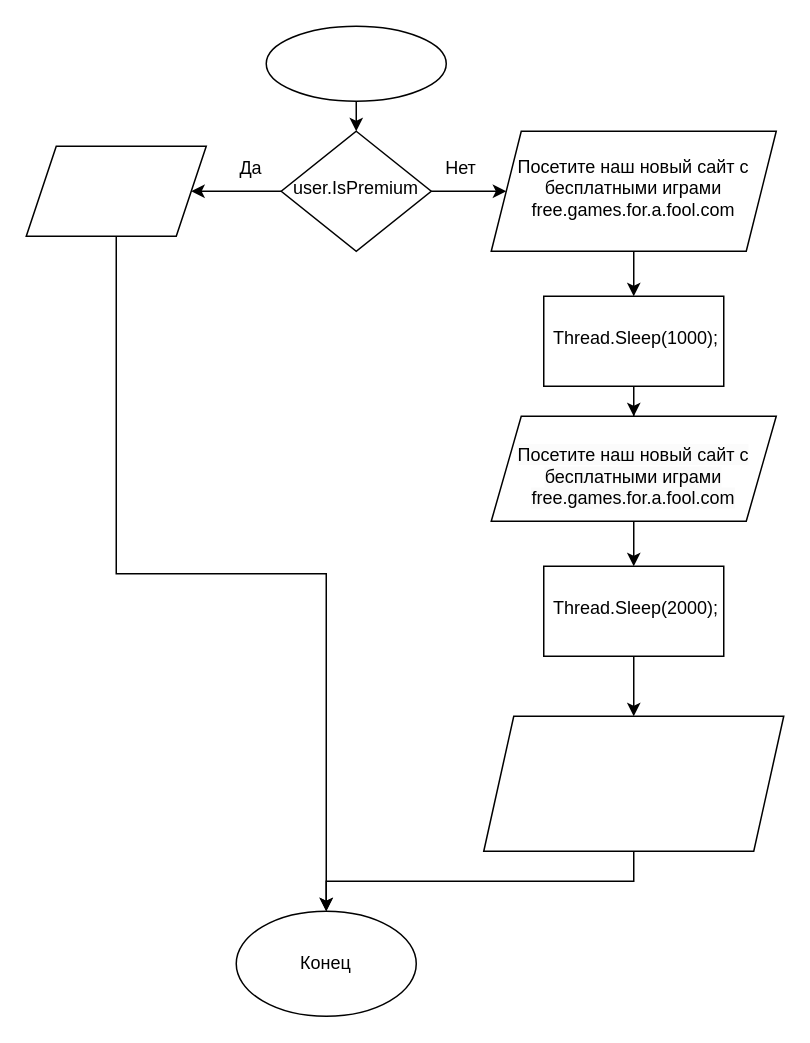
The diagram is 810 pixels wide and 1043 high, and some of its shapes have lost their labels. Here are the shapes that lost their labels. From the top down, the box of each, then its label:
(265, 25, 446, 101): Начало
(25, 145, 206, 236): У Вас премиум подписка
(482, 715, 784, 851): Оформите премиум-подписку на наш сервис, чтобы не видеть рекламу
